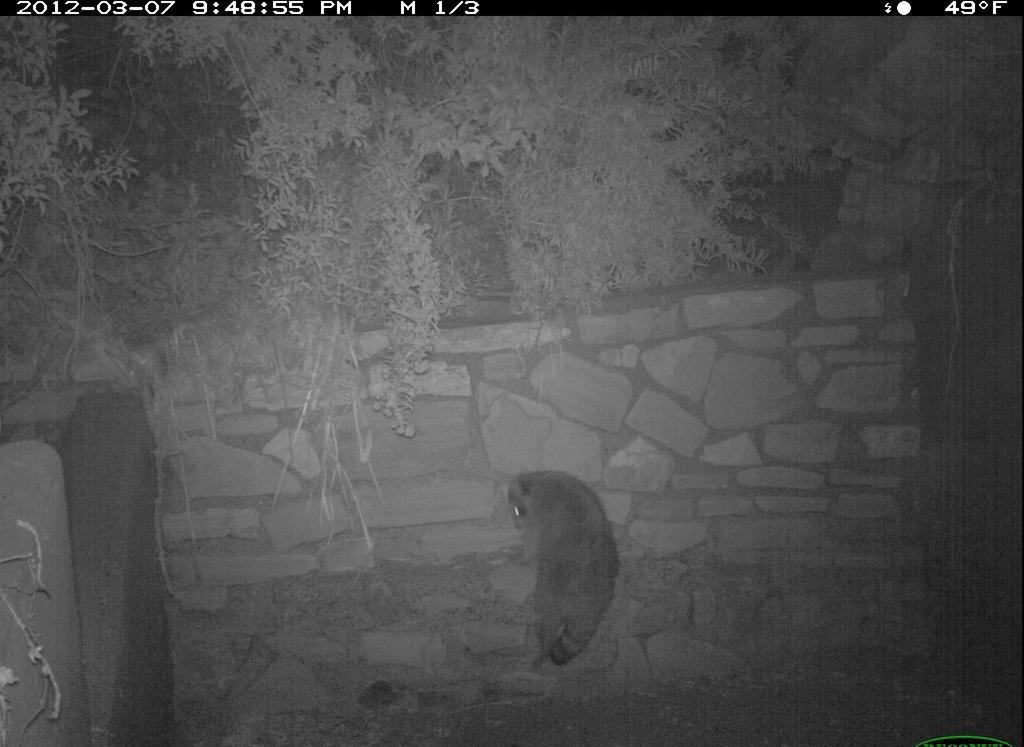raccoon: (504, 469, 632, 675)
